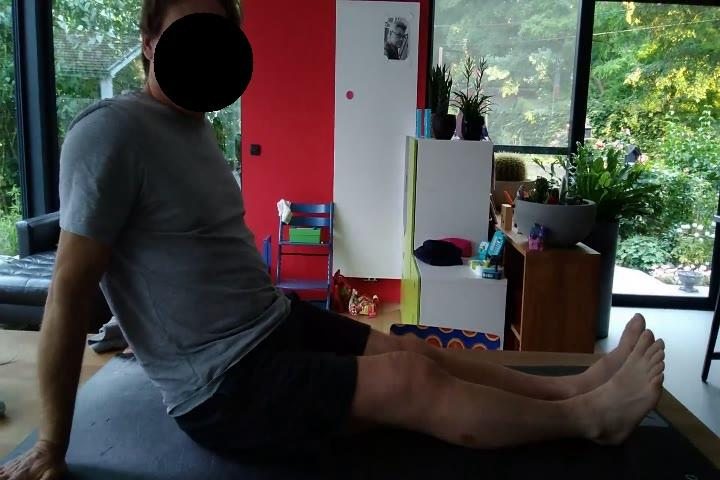lower_body: (178, 304, 668, 456)
